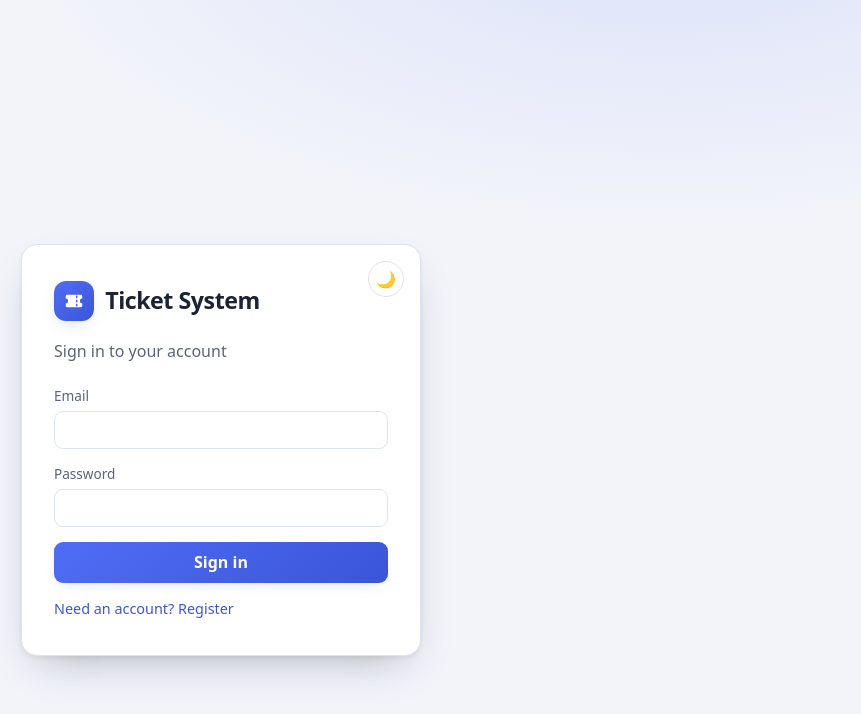
Test case: signing in › shows the API error and does not authenticate on failure
Type "joyce@example.com" into the field labelled "Email" at coordinates (221, 430), box [54, 411, 388, 449]
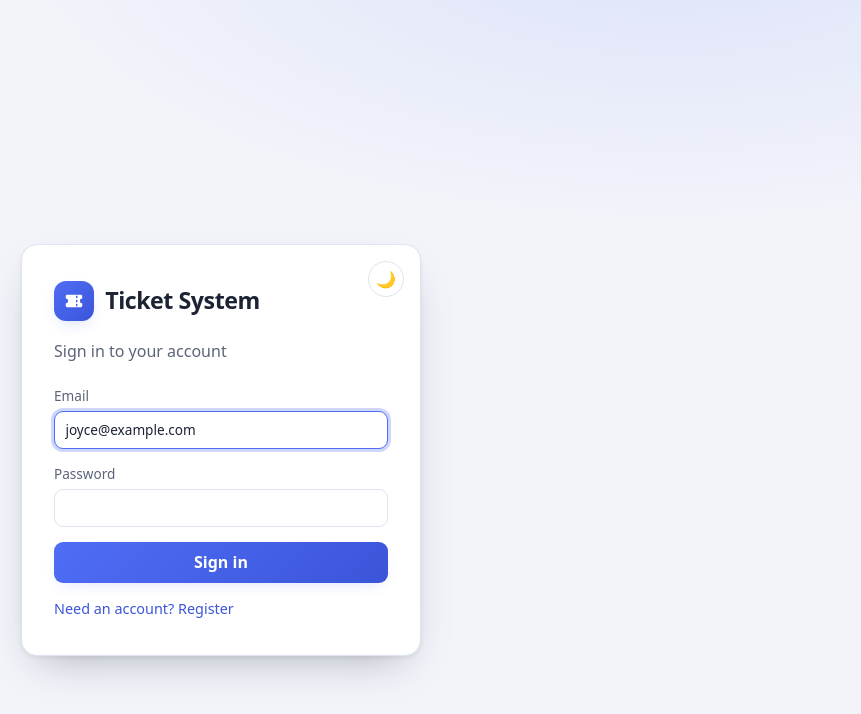
Type "wrongpassword" into the password field labelled "Password" at coordinates (221, 508), box [54, 489, 388, 527]
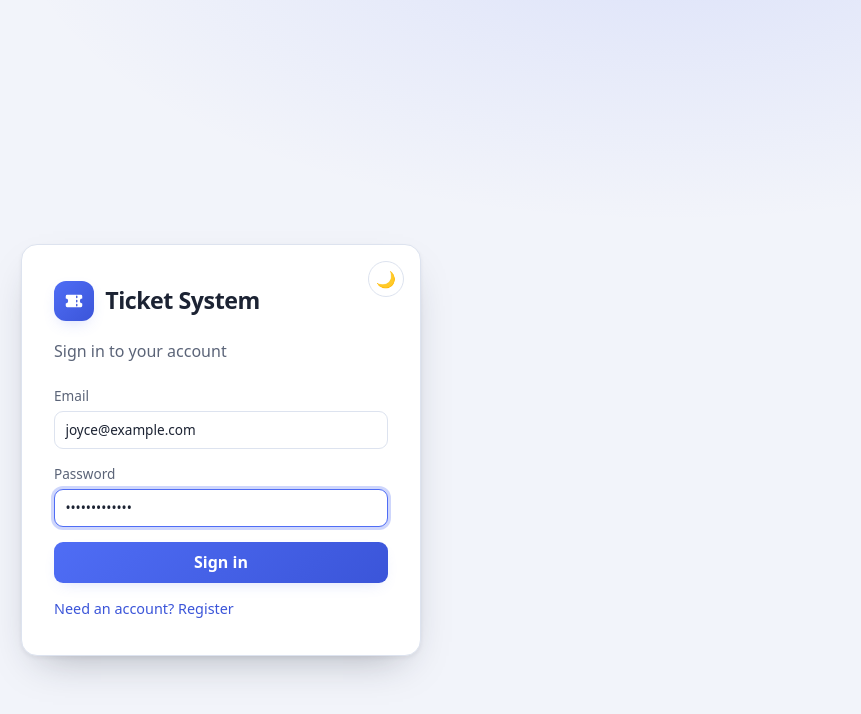
Click the button "Sign in" at coordinates (221, 562), box [54, 542, 388, 583]
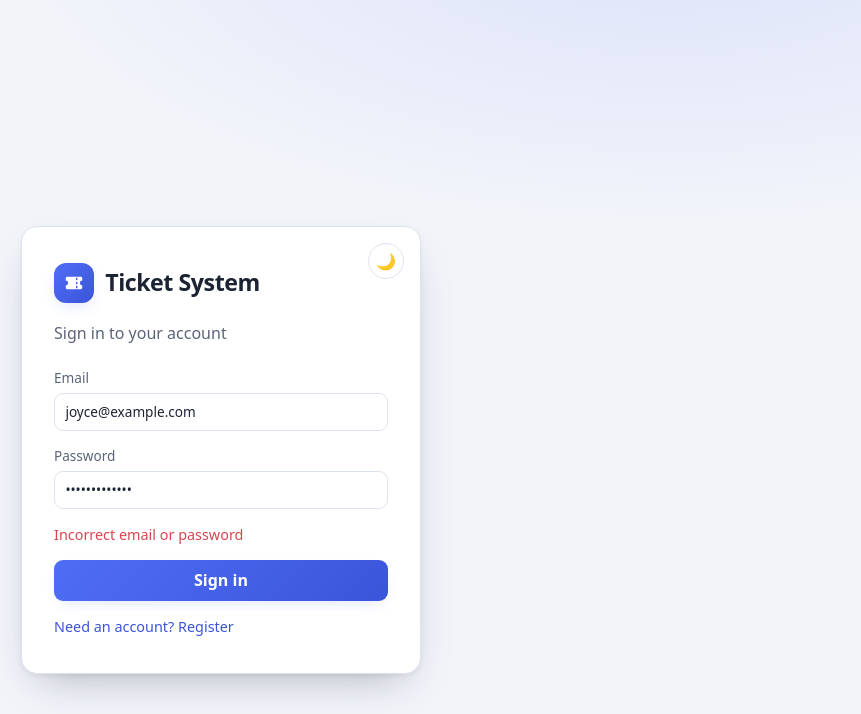
Expected: the text "Incorrect email or password" is shown, [54, 525, 243, 544]
